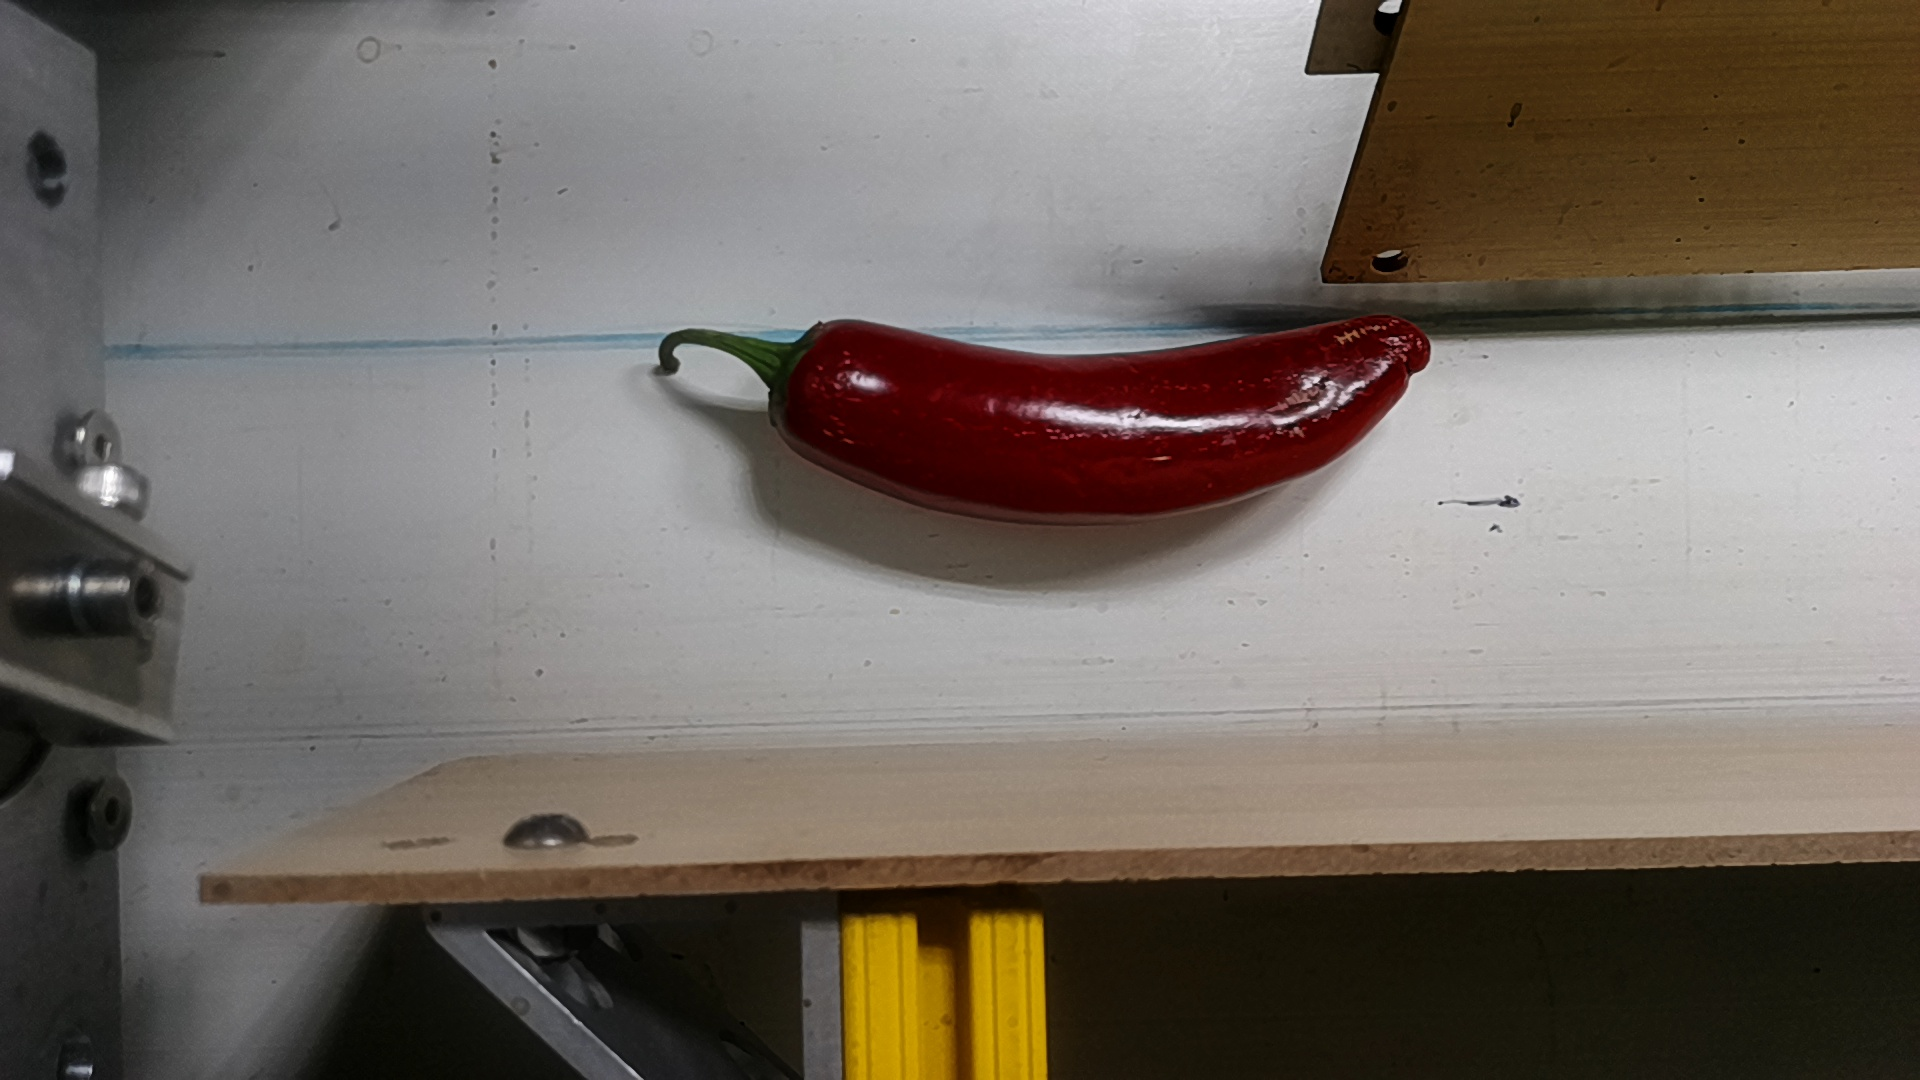Cut Point: (752, 305, 856, 460)
